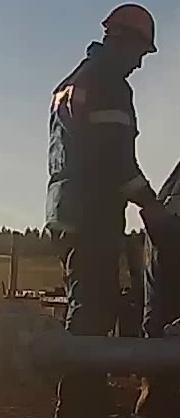gloves: (137, 193, 178, 247)
helmet: (99, 1, 160, 54)
vest: (44, 60, 138, 248)
